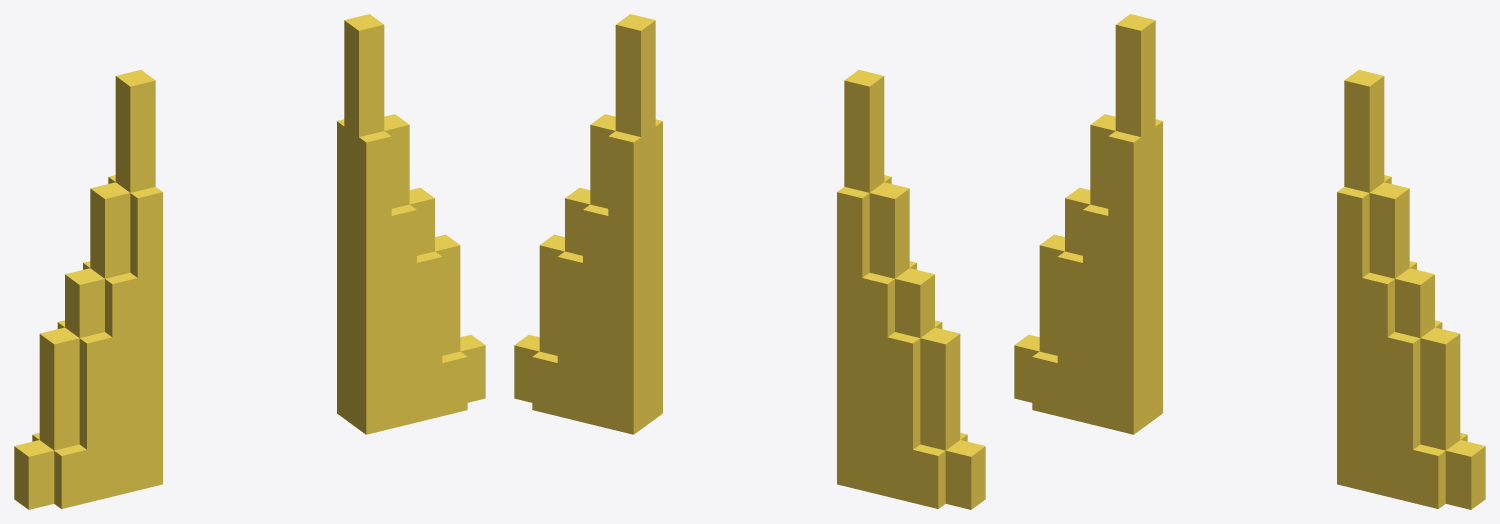
File: rocket_fins_blox.fbx
3 renders of one model, left to right at view 1: azimuth 30°, elevation 25°; view 2: azimuth 150°, elevation 25°; view 3: azimuth 330°, elevation 25°, orthographic.
Visible parts, largest first — view 1: shape0 (×77); view 2: shape0 (×77); view 3: shape0 (×77).
Boxes of the visible parts, box(x1,y1,x2,y2) form: shape0 (×77): box(14, 14, 485, 509); shape0 (×77): box(514, 14, 985, 509); shape0 (×77): box(1014, 14, 1485, 509).
Bounding box in the file's own units: 180 × 150 × 20.
